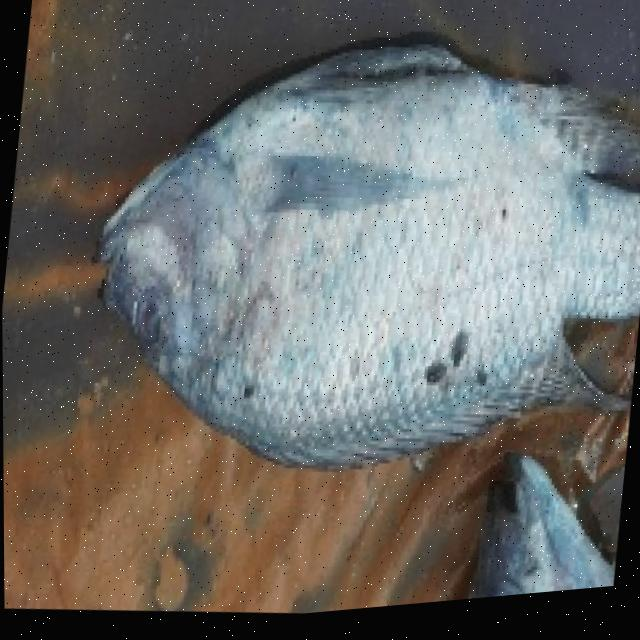Non-Fresh: (48, 14, 640, 500), (465, 575, 547, 608)
